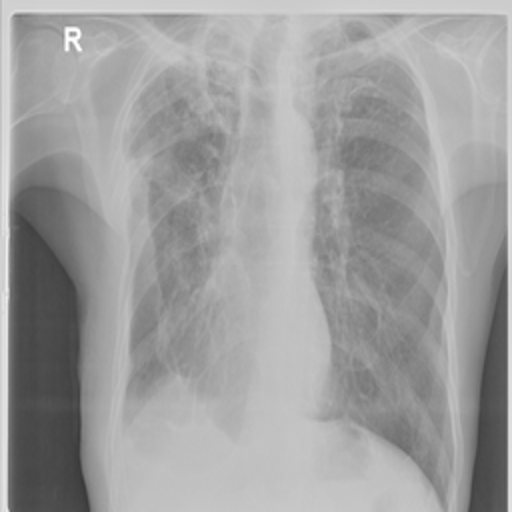TB: (123, 28, 241, 394)
